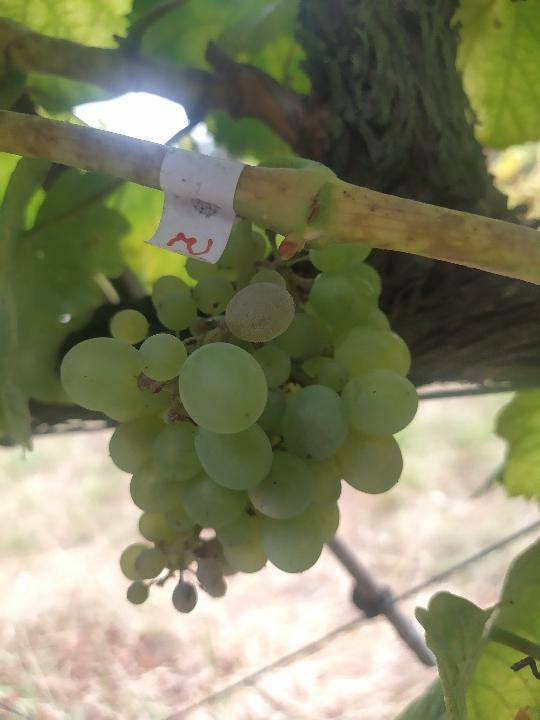grape: (56, 227, 423, 615)
